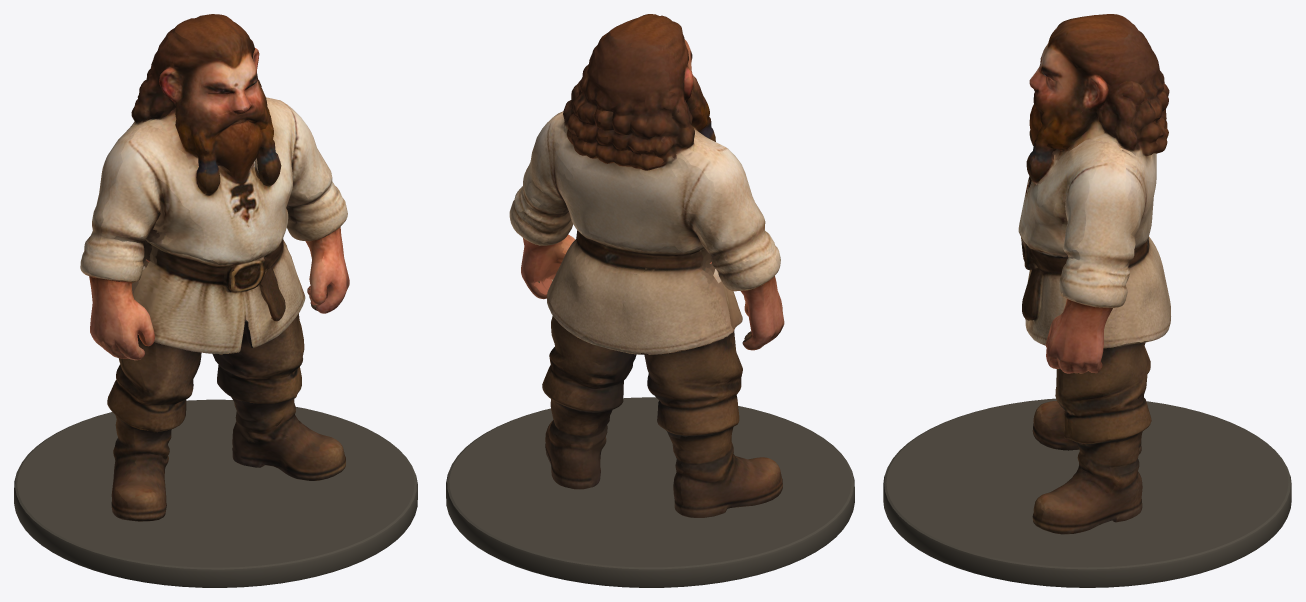
The model's file is dwarf-commoner.glb.
3 renders of one model, left to right at view 1: azimuth 30°, elevation 25°; view 2: azimuth 150°, elevation 25°; view 3: azimuth 270°, elevation 25°, orthographic.
Visible parts, largest first — view 1: dwarf-commoner_body, dwarf-commoner_round_base; view 2: dwarf-commoner_body, dwarf-commoner_round_base; view 3: dwarf-commoner_body, dwarf-commoner_round_base.
Part boxes in pixels (box(x1,y1,x2,y2)): dwarf-commoner_body: box(80, 14, 349, 521); dwarf-commoner_round_base: box(14, 399, 417, 587); dwarf-commoner_body: box(509, 14, 784, 517); dwarf-commoner_round_base: box(446, 397, 854, 587); dwarf-commoner_body: box(1018, 14, 1170, 534); dwarf-commoner_round_base: box(883, 398, 1291, 587).
Size of the model in its own units: 1 by 1.3 by 1.
Materials: 2 (1 with a texture image).
